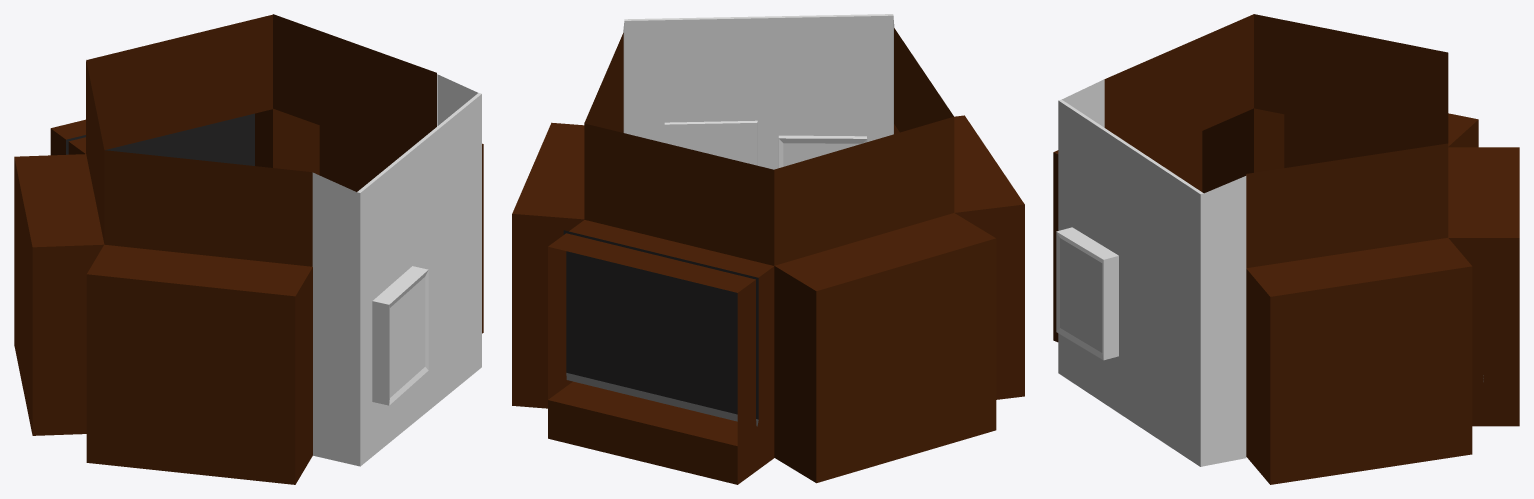
The model's file is WorkOrderWall.fbx.
3 renders of one model, left to right at view 1: azimuth 30°, elevation 25°; view 2: azimuth 150°, elevation 25°; view 3: azimuth 270°, elevation 25°, orthographic. The views are drawn at different scales.
Parts seen in each view (by area): view 1: Cube, Cube.001, Cube.003, Plane; view 2: Cube, Cube.001, Plane, Cube.002, Cube.003; view 3: Cube, Cube.001, Cube.003.
Part boxes in pixels (x1,y1,x2,y2): Cube: [14, 14, 483, 484]; Cube.001: [312, 74, 481, 466]; Cube.003: [372, 266, 428, 405]; Plane: [66, 113, 254, 165]; Cube: [512, 28, 1024, 484]; Cube.001: [623, 14, 894, 169]; Plane: [563, 230, 758, 426]; Cube.002: [664, 120, 757, 165]; Cube.003: [778, 135, 867, 168]; Cube: [1053, 14, 1519, 484]; Cube.001: [1058, 79, 1246, 466]; Cube.003: [1056, 227, 1118, 360].
Size of the model in its own units: 653 by 400 by 596.
